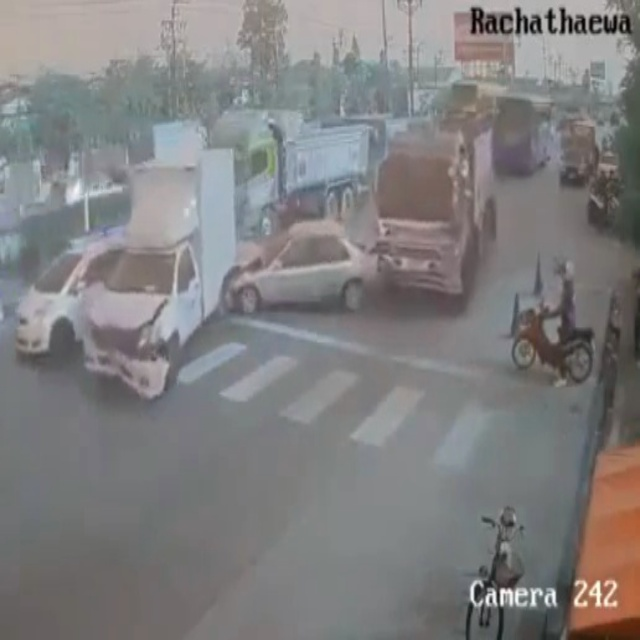acc: (95, 224, 391, 397)
